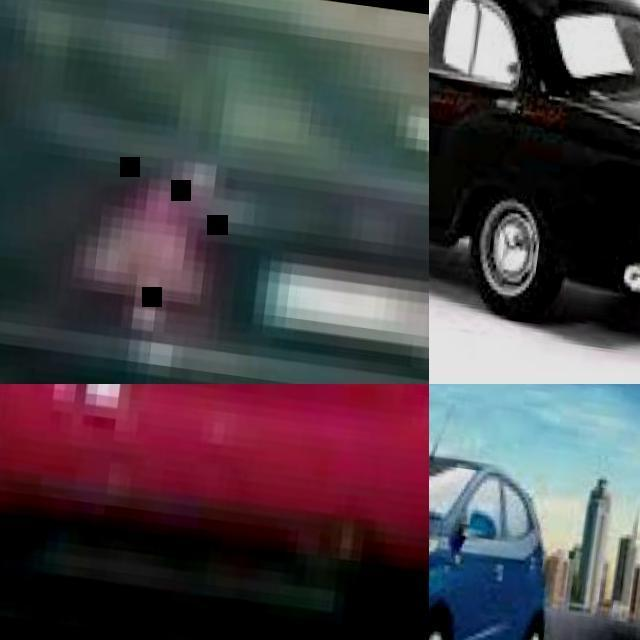car: (437, 0, 640, 323), (425, 452, 547, 639)
